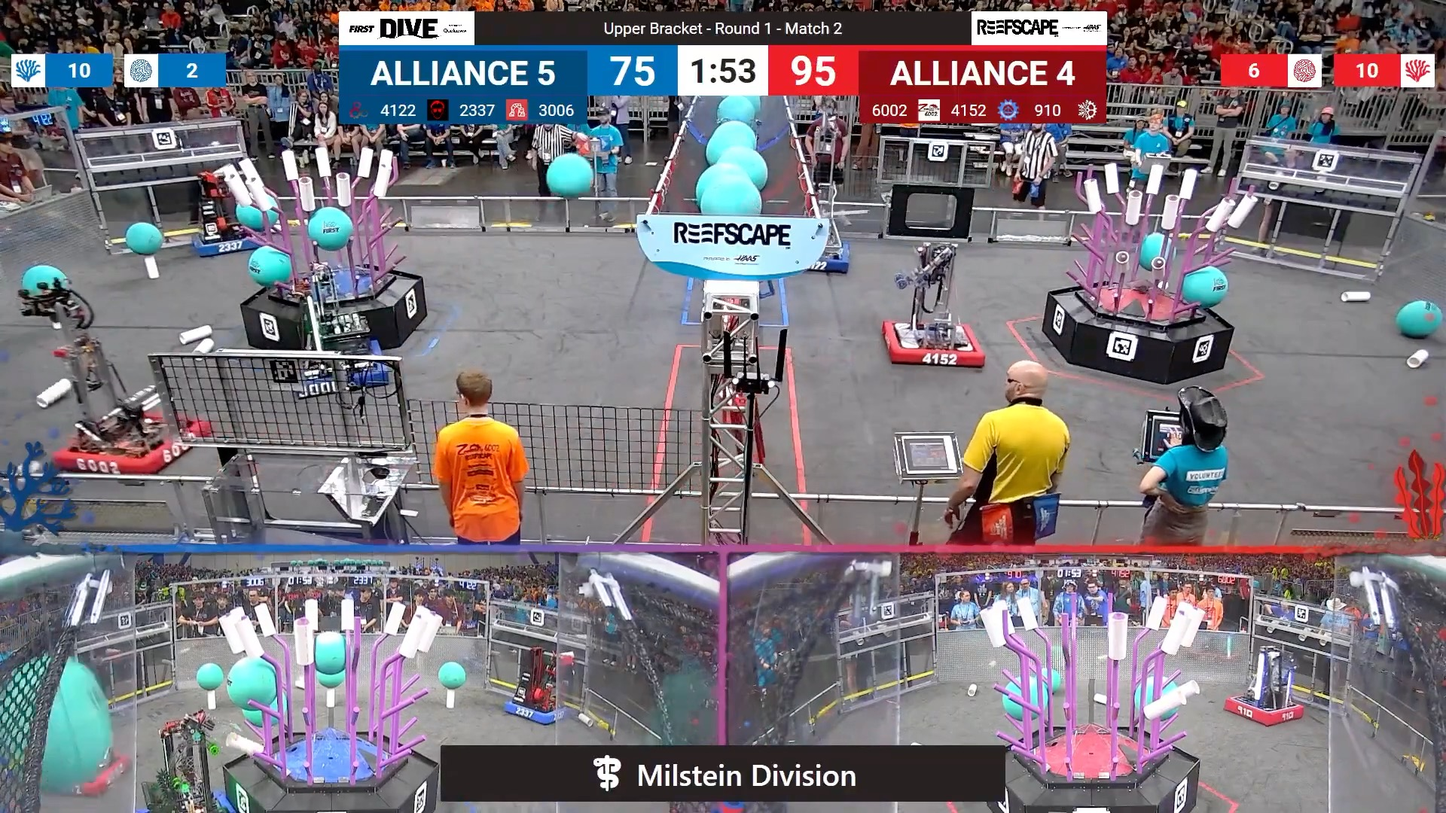bumpers: (47, 410, 207, 481), (877, 314, 993, 376), (291, 339, 398, 394), (182, 221, 273, 260), (1218, 691, 1310, 729), (498, 695, 574, 729), (798, 242, 854, 273)
